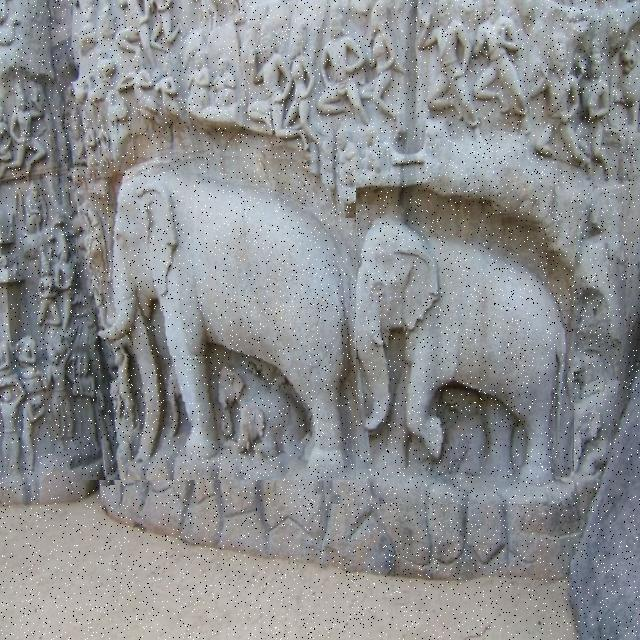elephant: (75, 148, 356, 480), (316, 206, 574, 504)
